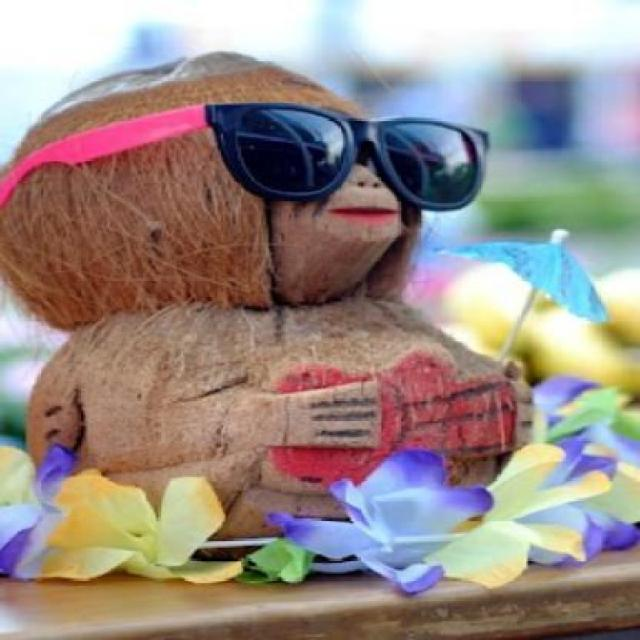glasses: (51, 91, 438, 234)
